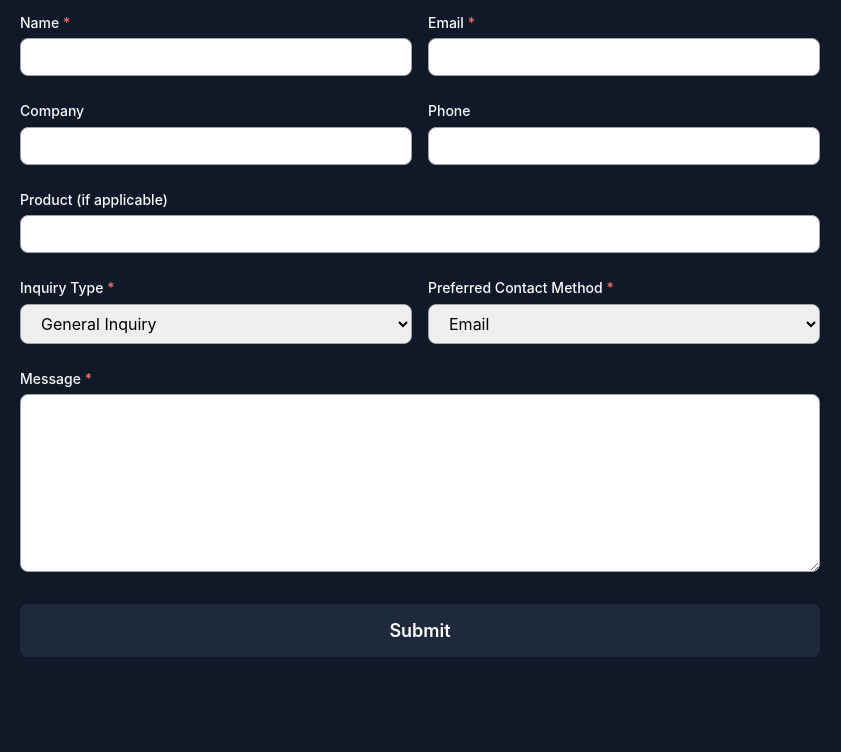
ContactForm Error Handling › should display error message on API failure
The image size is (841, 752).
Type "John Doe" into the field labelled "Name *" at (216, 57), box [20,38,412,76]
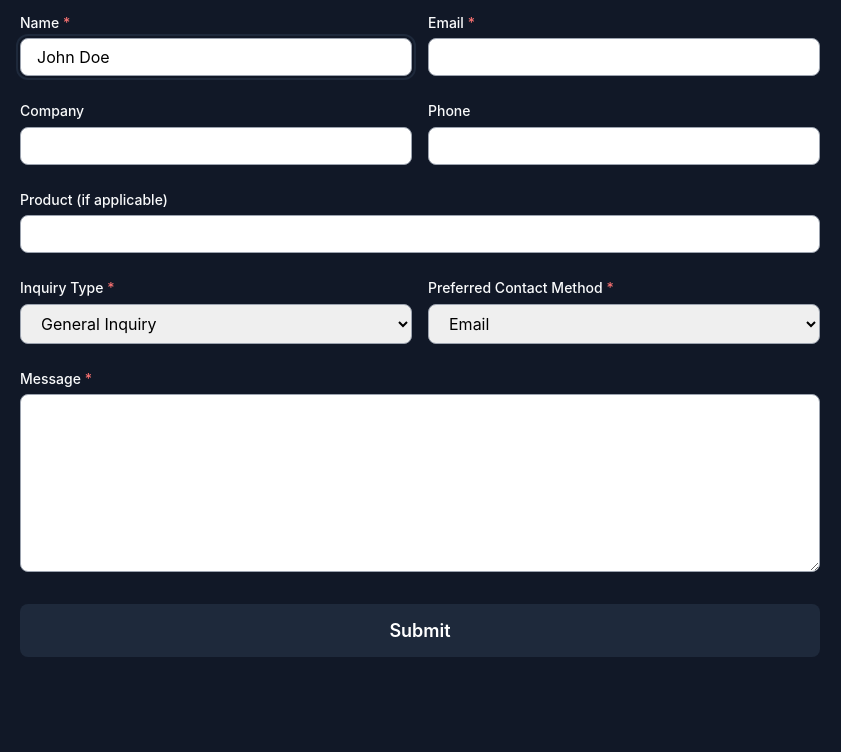
Type "john@example.com" into the field labelled "Email *" at (624, 57), box [428,38,820,76]
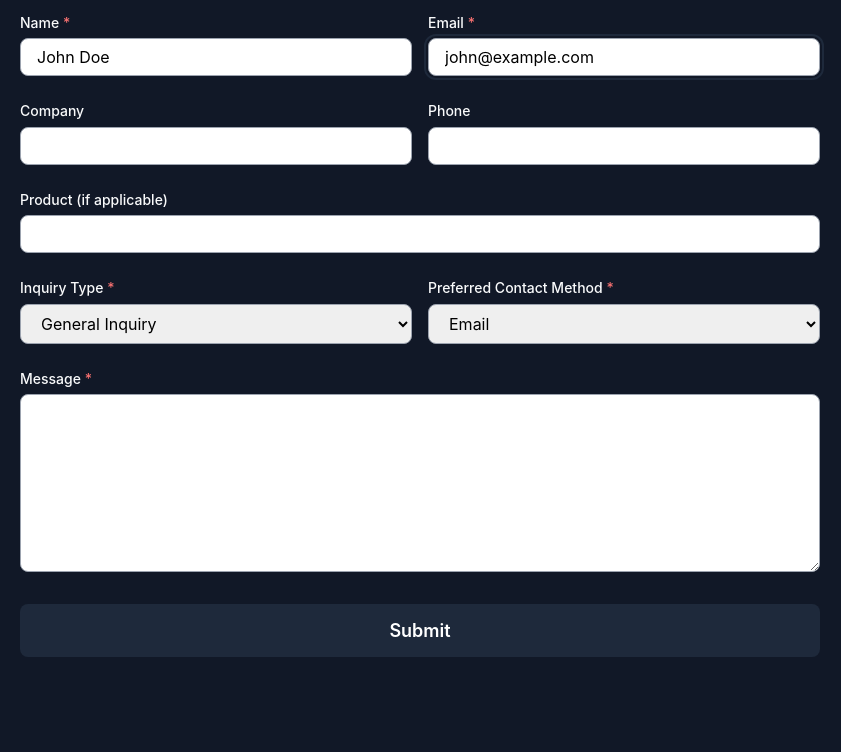
Type "This is a test message with enough characters." into the text box labelled "Message *" at (420, 483), box [20,394,820,572]
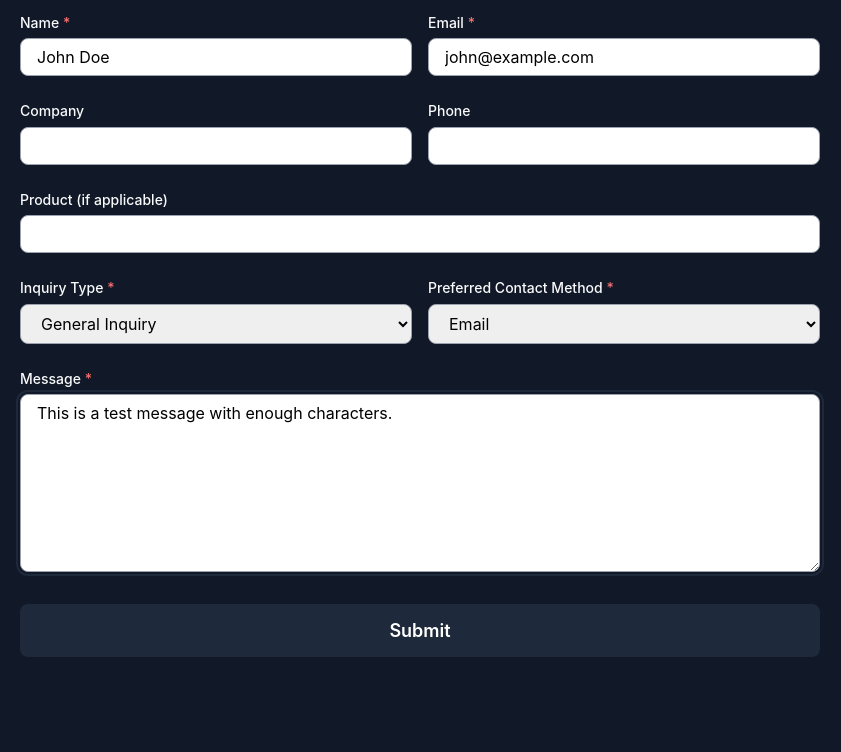
Click the button "Submit" at (420, 630), box [20,604,820,656]
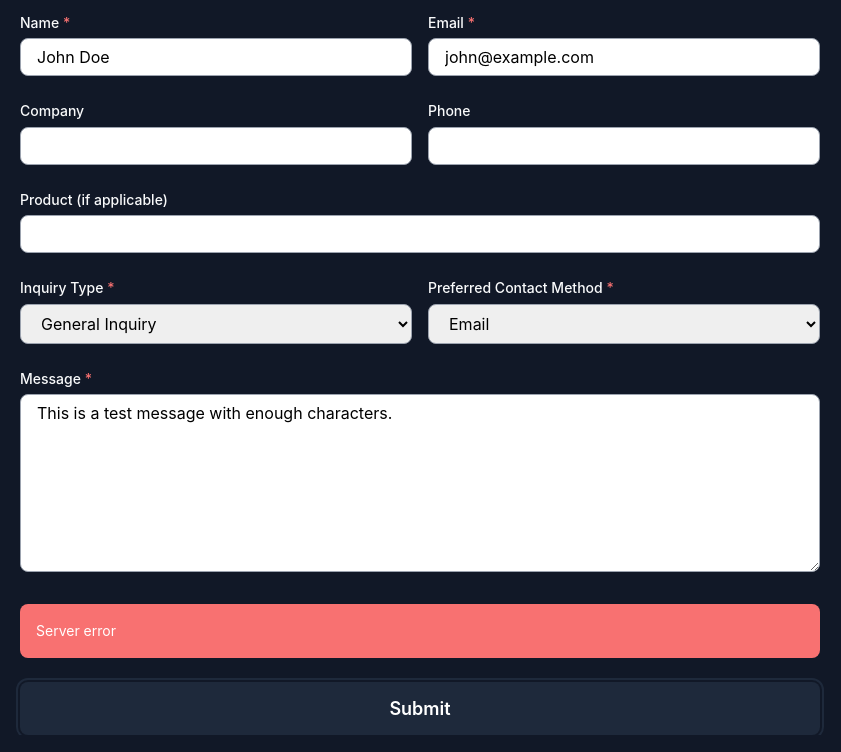
Expected: the text "Server error" is shown, [20,604,820,658]
